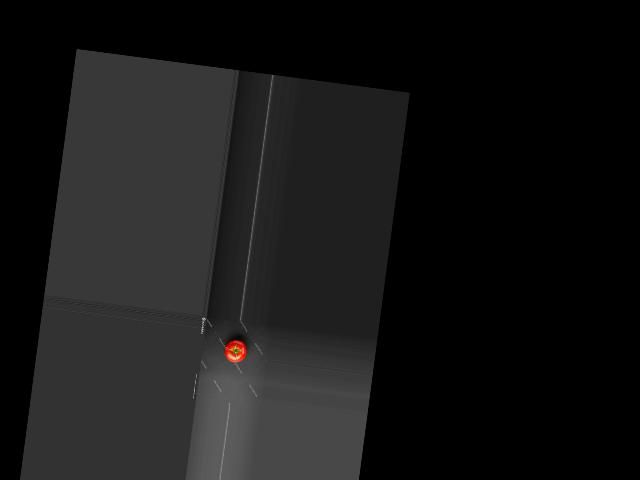tomato: (222, 339, 247, 364)
